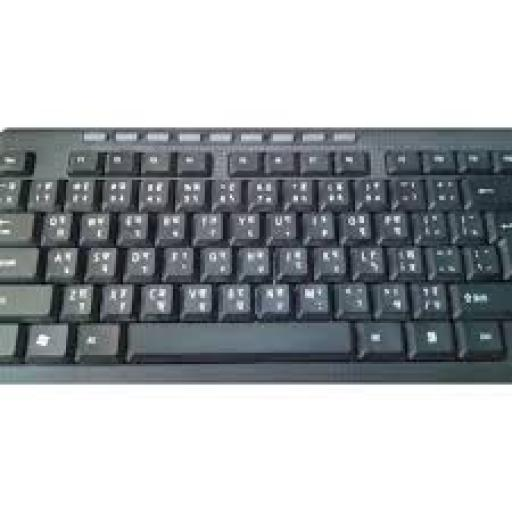keyboard: (0, 127, 510, 380)
